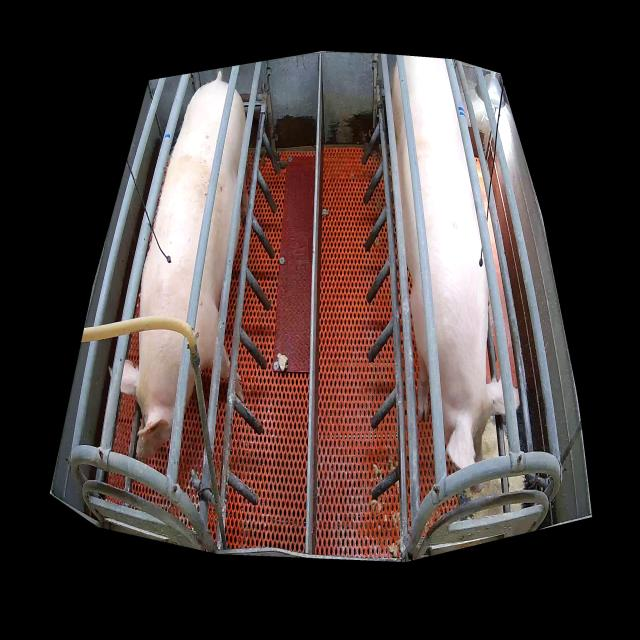pig: (120, 81, 248, 457), (392, 58, 505, 469)
